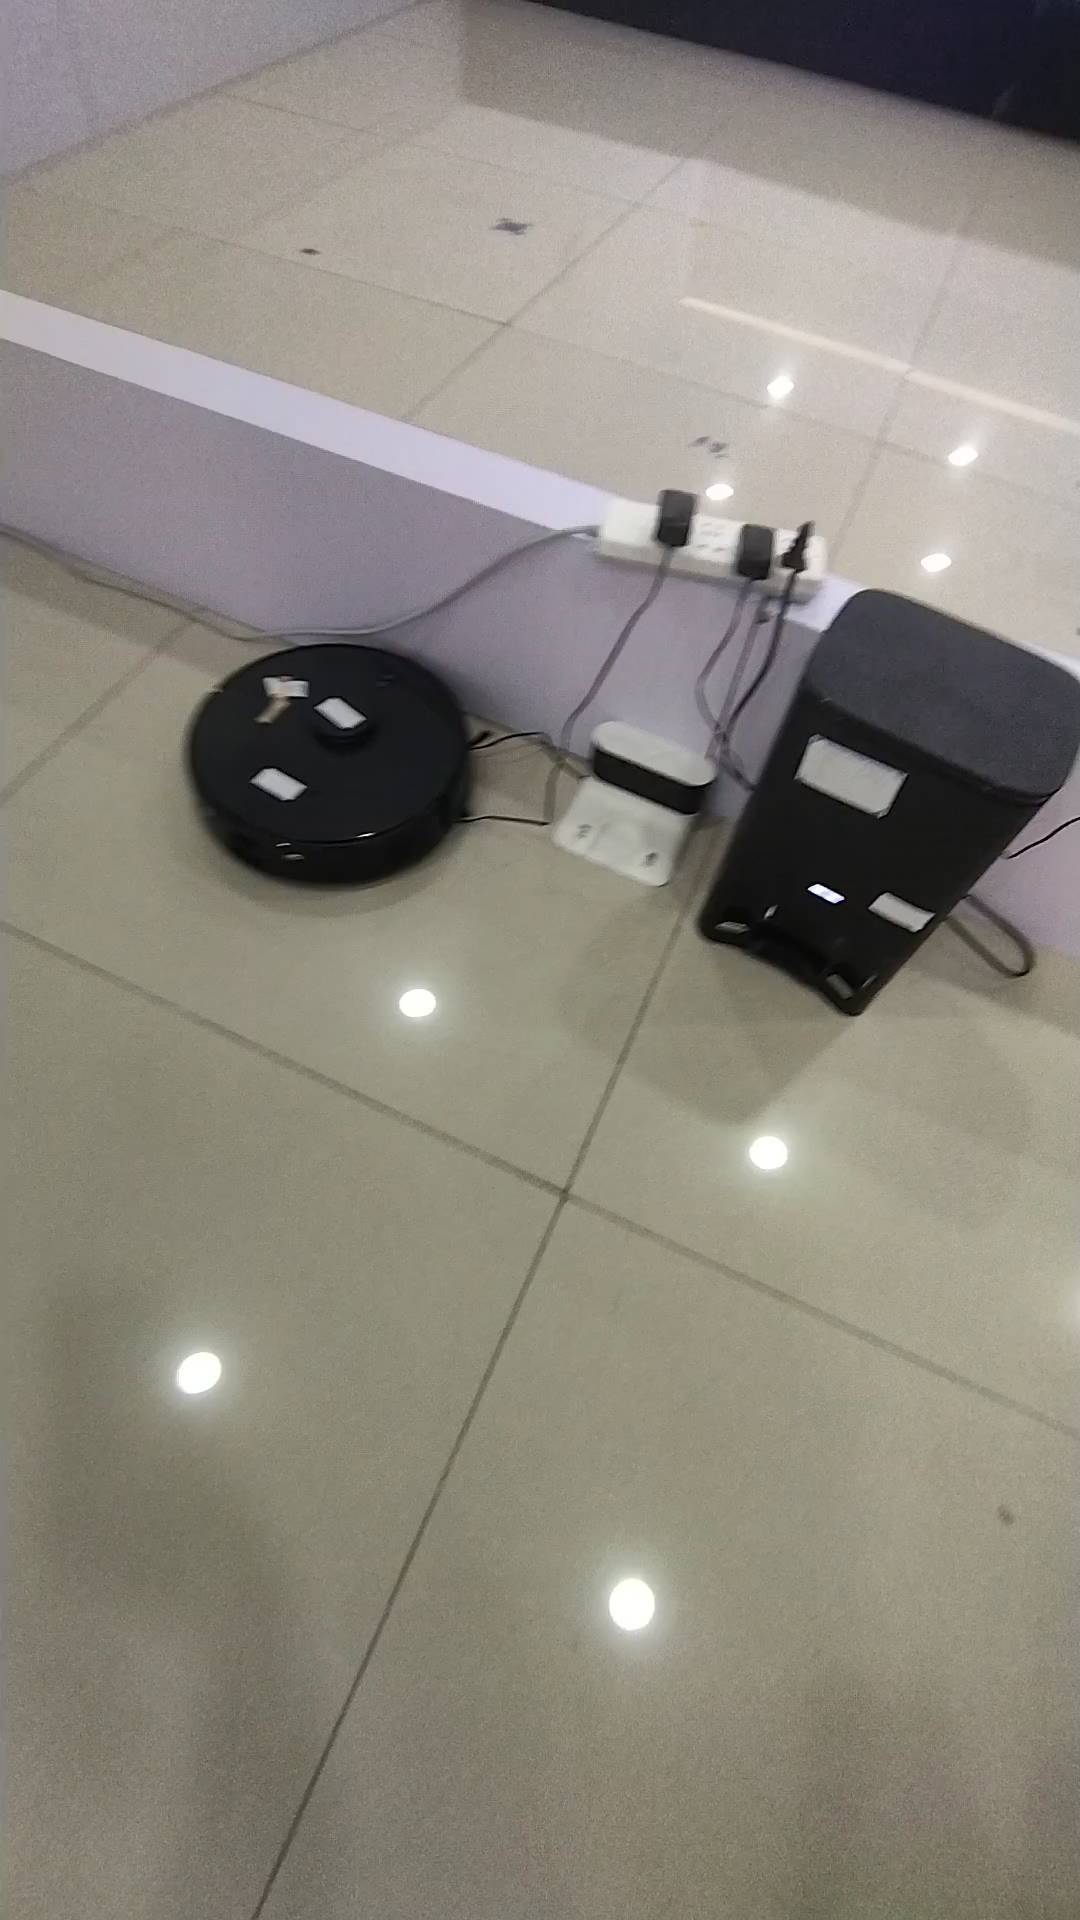dust collecting barrel: (698, 587, 1080, 1025)
recharge seat: (546, 721, 717, 887)
